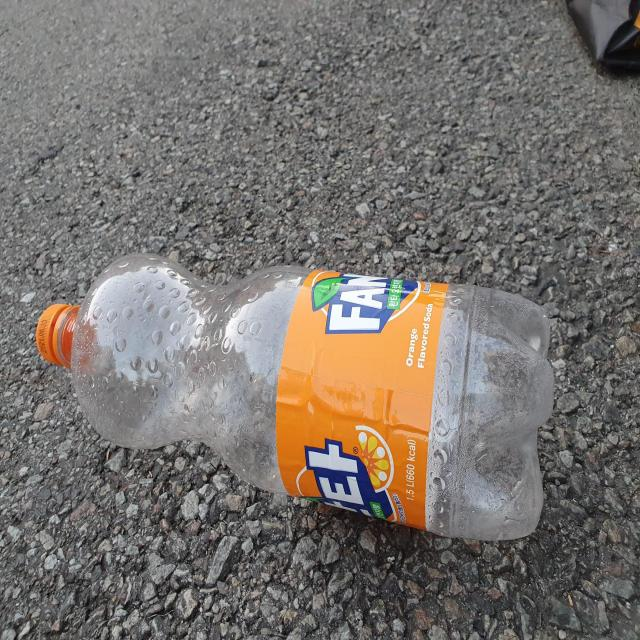plastic: (35, 254, 555, 541)
